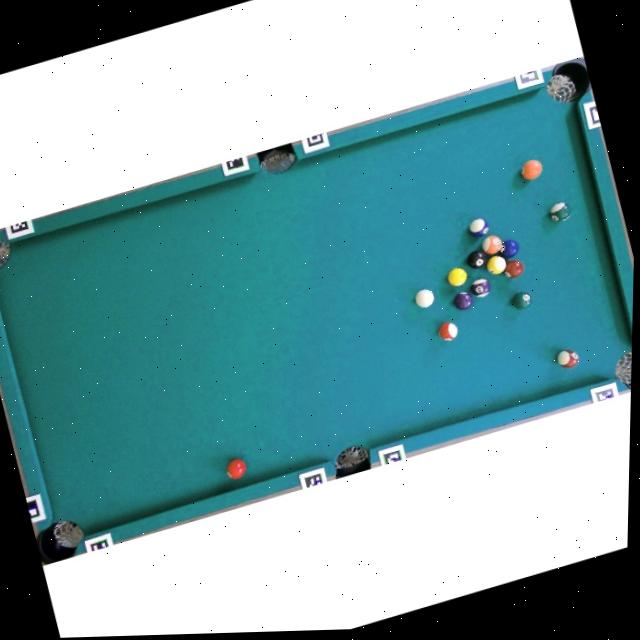cue ball: (413, 286, 436, 310)
other: (518, 156, 545, 183), (223, 455, 249, 481), (554, 346, 581, 371), (547, 199, 573, 224), (479, 232, 505, 257), (444, 264, 469, 289), (509, 288, 535, 312), (466, 216, 491, 240), (497, 236, 521, 260), (468, 276, 493, 299), (436, 320, 460, 343), (465, 247, 489, 270), (484, 253, 508, 276), (501, 257, 525, 280), (451, 289, 474, 311)
